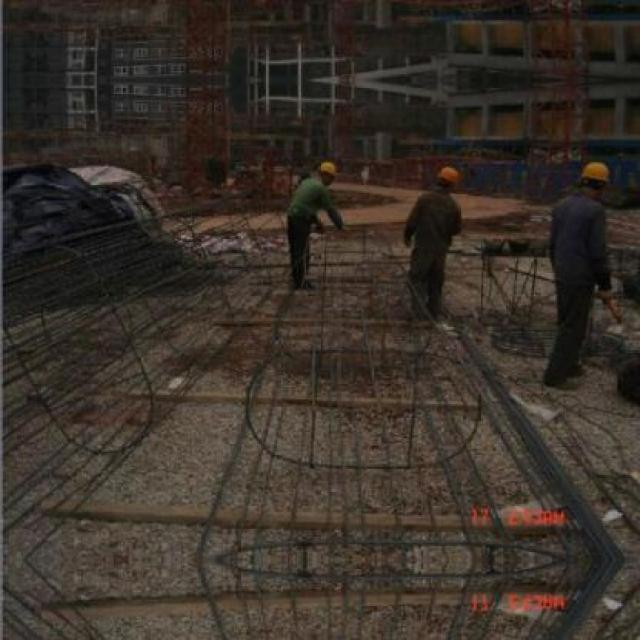helmet: (576, 156, 612, 200), (434, 163, 458, 193), (314, 158, 338, 186)
